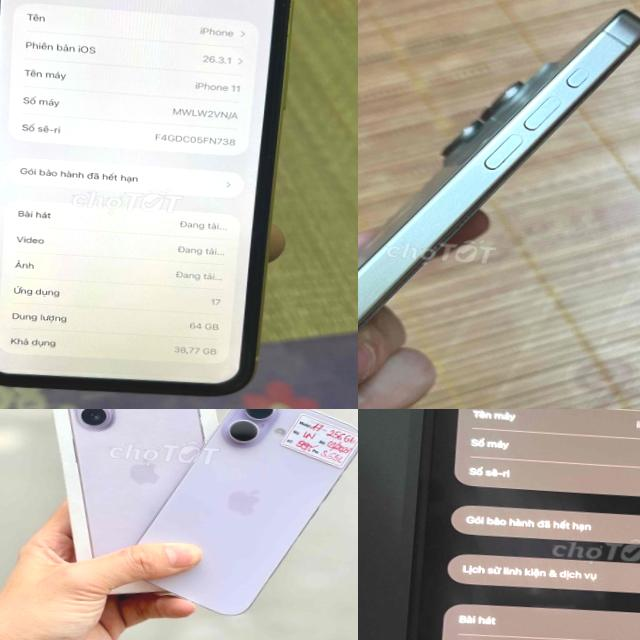gen_11: (0, 0, 301, 409)
gen_15: (358, 0, 640, 409), (397, 409, 640, 640)
gen_17: (131, 409, 358, 640)
